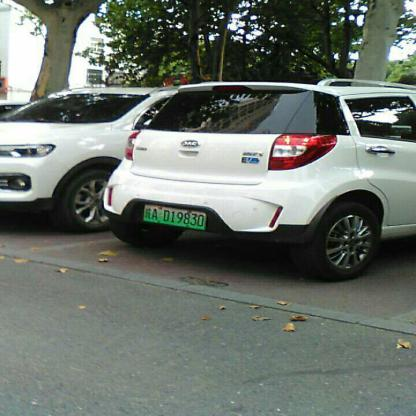lp: (144, 204, 206, 230)
